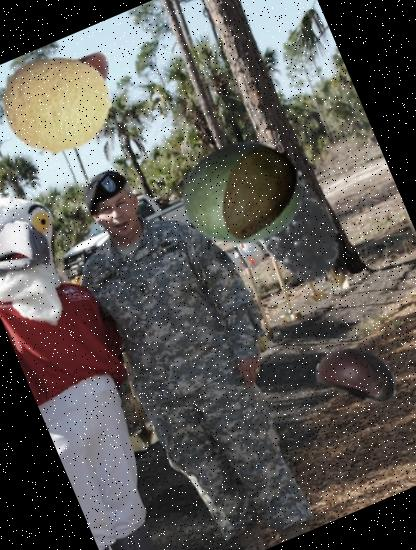Cantaloupe: (0, 34, 129, 178)
Chestnut: (304, 318, 413, 427), (29, 32, 126, 129)
Mango: (160, 110, 325, 276)
Mulberry: (209, 156, 366, 313)
Papaya: (190, 125, 324, 259)
